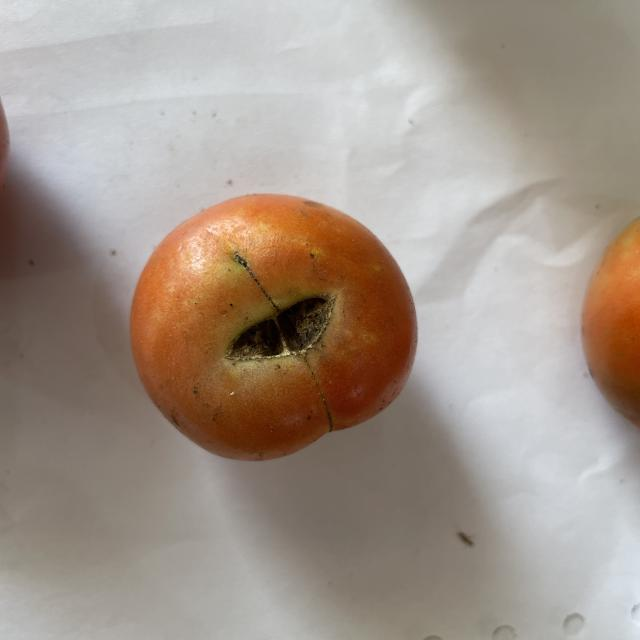fruitworm_bore: (212, 292, 338, 372)
